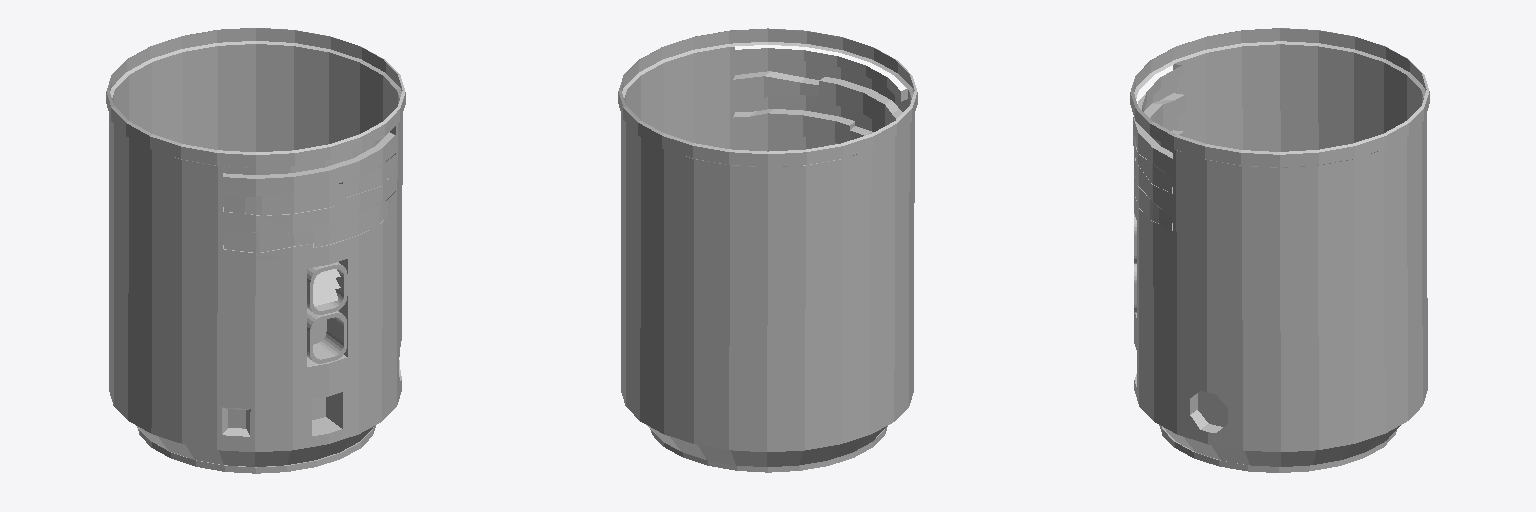
Rendered from R2D2Body.obj.
The picture shows the model from 3 angles: view 1: azimuth 30°, elevation 25°; view 2: azimuth 150°, elevation 25°; view 3: azimuth 270°, elevation 25°; orthographic projection.
Visible parts, largest first — view 1: r2d2; view 2: r2d2; view 3: r2d2.
Boxes of the visible parts, <box> form: r2d2: <box>106,28,405,473</box>; r2d2: <box>618,28,917,472</box>; r2d2: <box>1130,28,1429,472</box>.
Size of the model in its own units: 0.4818 by 0.5915 by 0.4819.